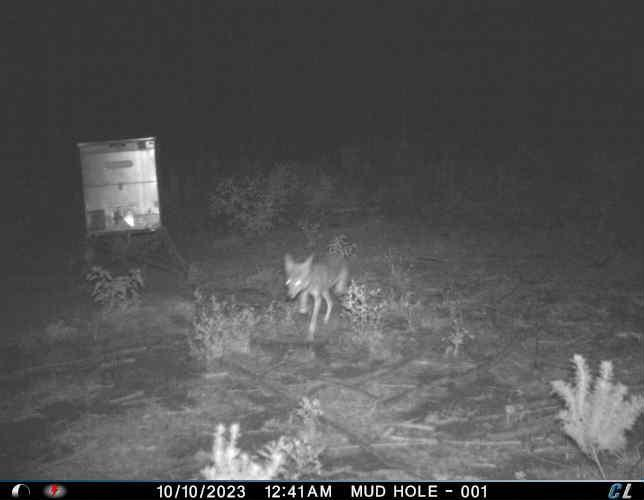Coyote: (282, 248, 355, 339)
